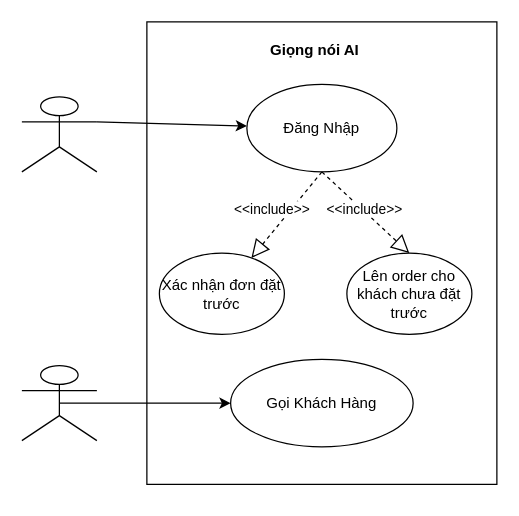
The diagram is 519 pixels wide and 516 high, and some of its shapes have lost their labels. Here are the shapes that lost their labels. From the top down, the centre of each, then its label:
the point at 59,134: Nhân Viên
the point at 59,402: AI
